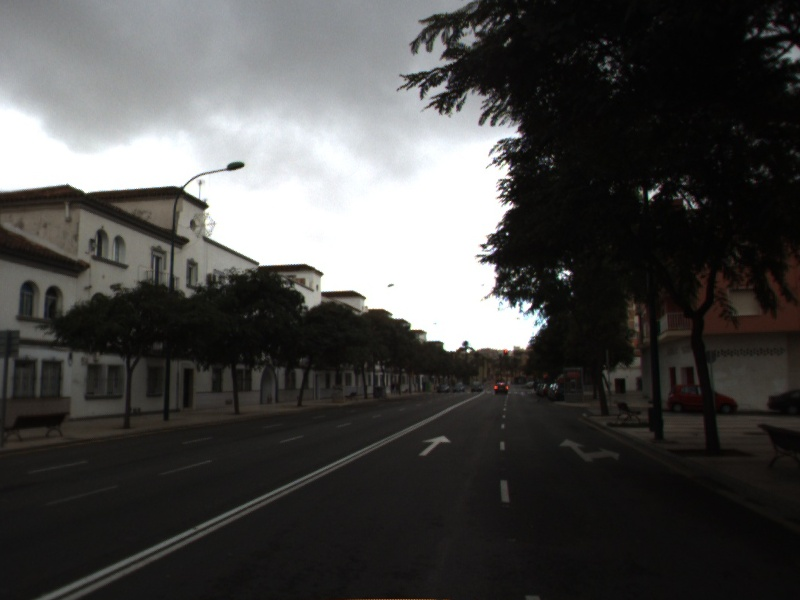STRAIGHT: (417, 434, 453, 457)
STRAIGHT_RIGHT: (558, 437, 621, 463)
